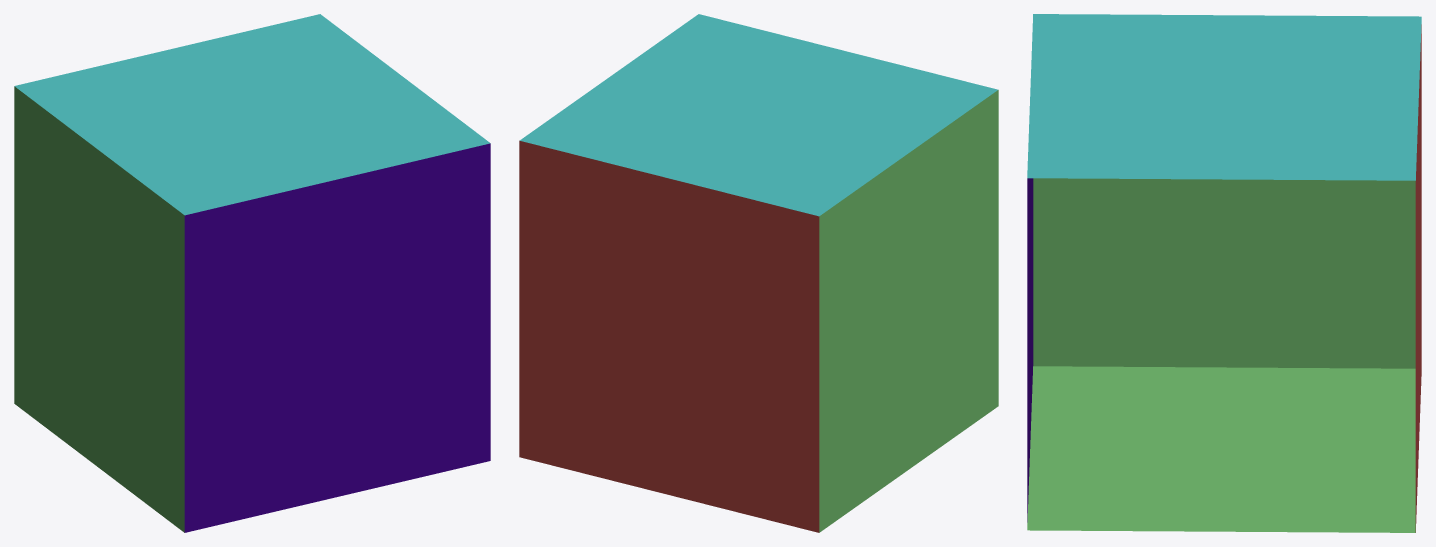
The model's file is hako.fbx.
The picture shows the model from 3 angles, left to right: view 1: azimuth 30°, elevation 25°; view 2: azimuth 150°, elevation 25°; view 3: azimuth 270°, elevation 25°; orthographic projection. The views are drawn at different scales.
Visible parts, largest first — view 1: pCube1; view 2: pCube1; view 3: pCube1.
Part boxes in pixels (left/top/right/bottom): pCube1: left=14, top=14, right=490, bottom=532; pCube1: left=519, top=14, right=998, bottom=532; pCube1: left=1027, top=14, right=1421, bottom=532.
Size of the model in its own units: 0.0102 by 0.01 by 0.0102.
